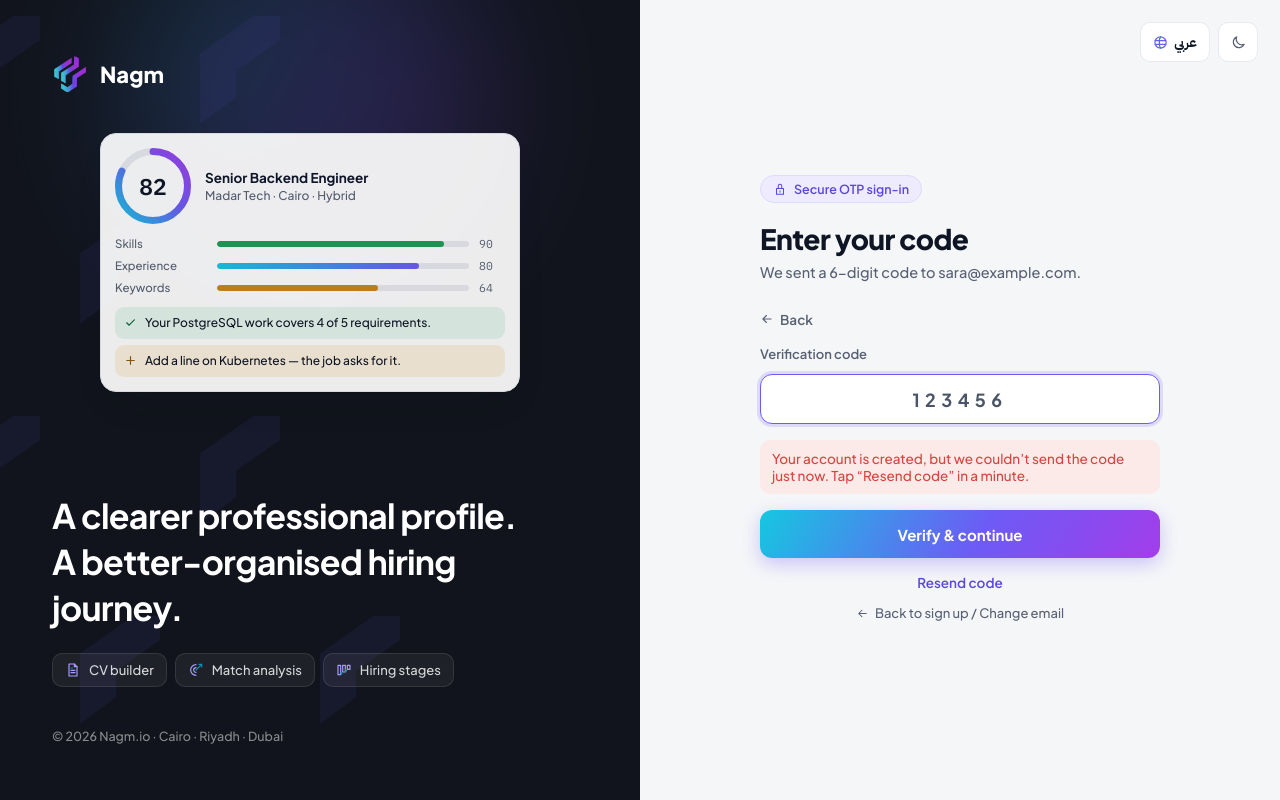
Test case: Verify — when the code did not go out › says the code was not sent (instead of "we sent a code") and resend explains a failed send
Check: the message shows "couldn’t send the code", box x1=772 y1=450 x2=1124 y2=484
Step 1. Click the button "Resend code" → (960, 583), box x1=760 y1=574 x2=1160 y2=591
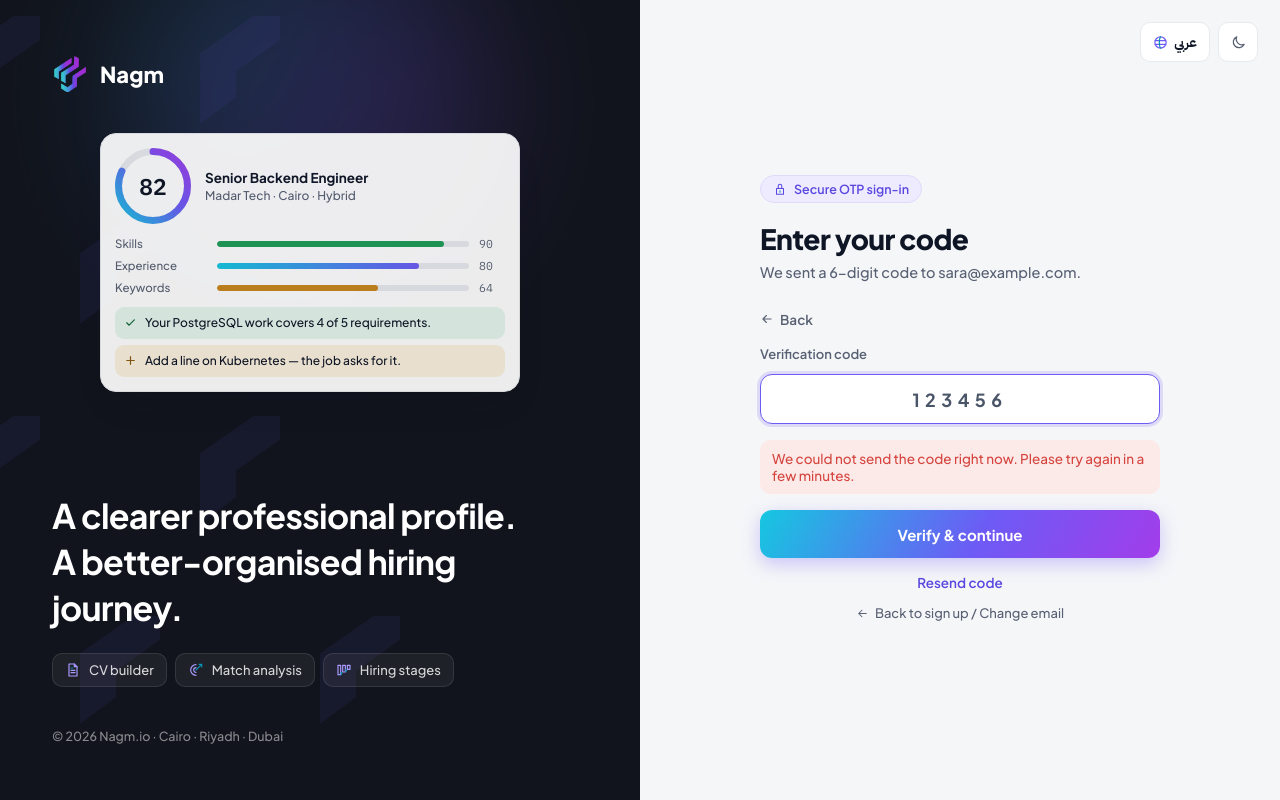
Check: the message shows "We could not send the code right now", box x1=772 y1=450 x2=1144 y2=484
